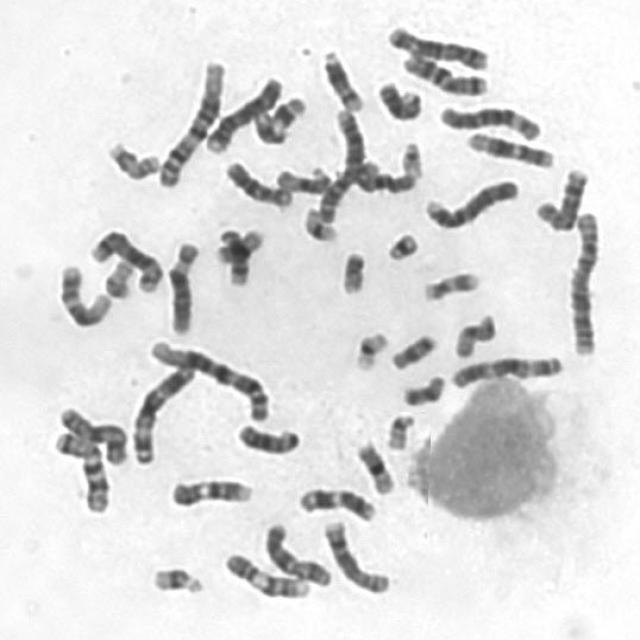A1: (144, 336, 272, 424), (152, 55, 227, 190)
A2: (328, 104, 420, 197), (563, 205, 603, 358)
A3: (126, 359, 198, 467), (445, 350, 566, 391)
B4: (201, 72, 286, 156), (419, 173, 521, 232)
B5: (382, 20, 491, 71), (85, 224, 164, 294)
C10: (220, 157, 294, 210), (354, 159, 418, 194)
C11: (293, 483, 378, 523), (249, 92, 308, 146)
C12: (54, 258, 113, 328), (462, 128, 556, 170)
C6: (434, 100, 544, 142), (162, 236, 202, 337)
C7: (48, 425, 112, 515), (397, 49, 490, 97)
C8: (318, 515, 392, 595), (530, 162, 592, 232)
C9: (219, 548, 312, 600), (165, 474, 256, 509)
D13: (232, 419, 302, 457), (372, 77, 423, 123)
D14: (316, 44, 366, 114), (212, 223, 250, 288)
D15: (448, 309, 498, 360), (271, 162, 333, 195)
E16: (351, 437, 397, 496), (211, 224, 265, 266)
E17: (102, 136, 162, 182), (418, 267, 482, 303)
E18: (385, 329, 439, 372), (398, 370, 448, 408)
F19: (349, 326, 390, 374), (299, 202, 339, 245)
F20: (99, 254, 137, 301), (337, 247, 368, 296)
G21: (146, 562, 206, 596), (382, 228, 421, 263)
G22: (381, 409, 416, 452), (395, 136, 425, 178)
X: (260, 518, 334, 588), (53, 401, 131, 467)
